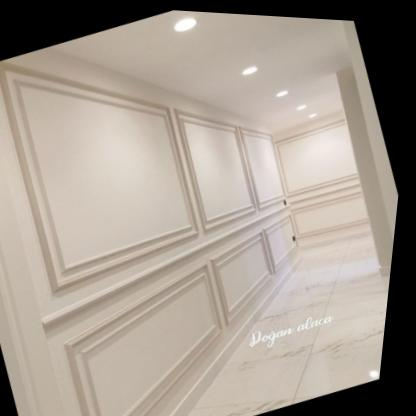Futec frame: (55, 205, 311, 416), (8, 58, 208, 300), (182, 104, 292, 235)
